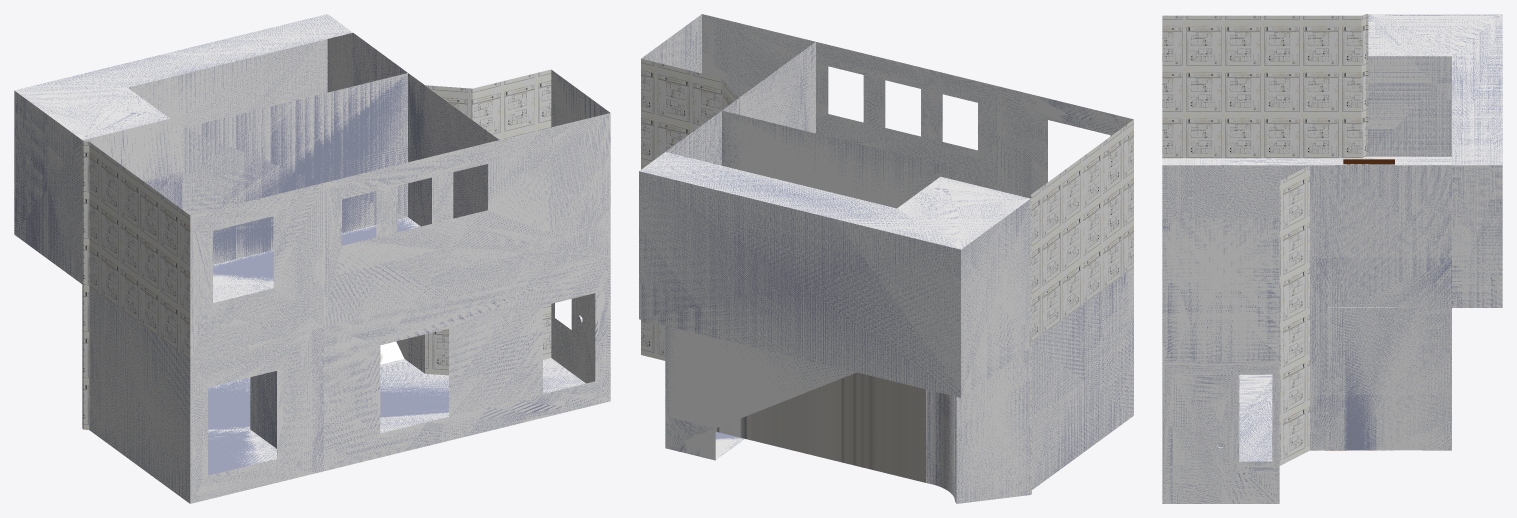
Rendered from Loft_Tmp.fbx.
The picture shows the model from 3 angles, left to right: view 1: azimuth 30°, elevation 25°; view 2: azimuth 150°, elevation 25°; view 3: azimuth 270°, elevation 25°; orthographic projection. The views are drawn at different scales.
Parts seen in each view (by area): view 1: Model; view 2: Model; view 3: Model.
Boxes of the visible parts, left/top/right/bottom form: Model: left=14, top=14, right=610, bottom=503; Model: left=639, top=14, right=1133, bottom=503; Model: left=1162, top=14, right=1502, bottom=503.
Bounding box in the file's own units: 2181 × 1417 × 1533.
